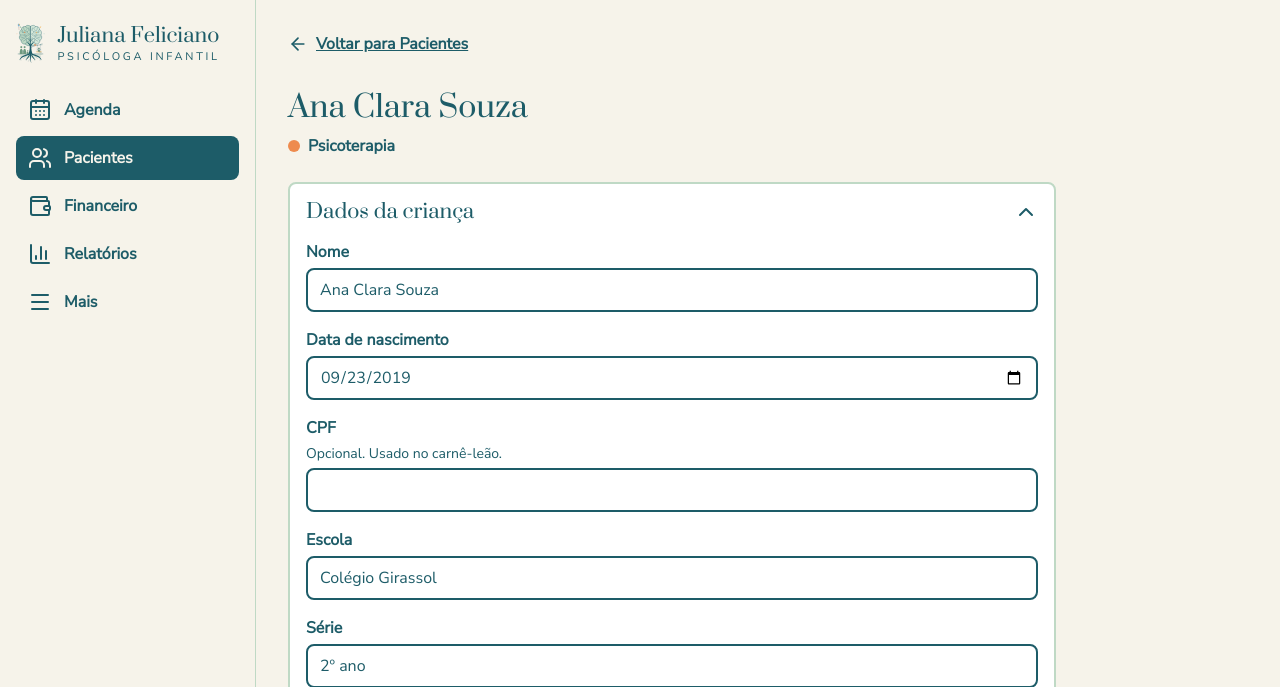
it: FichaPaciente — dados da criança › depois de salvar, os campos mostram o que ficou gravado (textos aparados)
Replace the text in the field labelled "Escola" with "   Escola Nova   " at (672, 578), box [306, 556, 1038, 600]
(page scrolled)
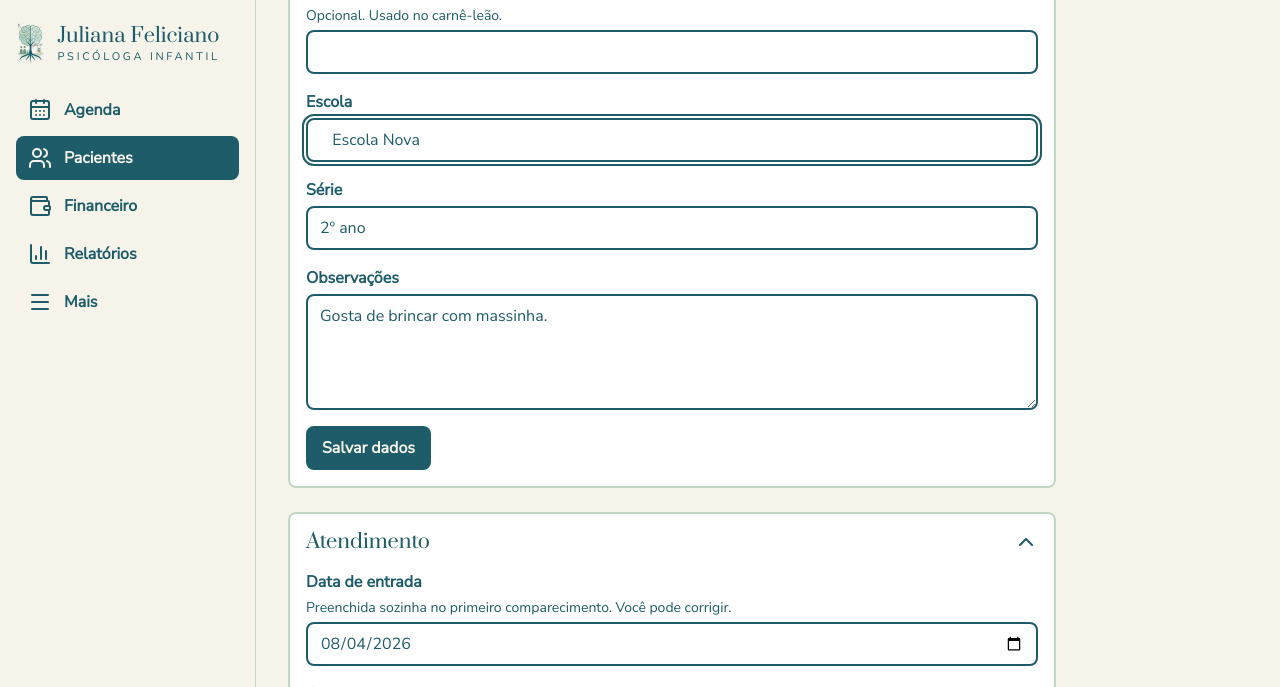
Click the button "Salvar dados".
click(368, 448)  # box [306, 426, 431, 470]
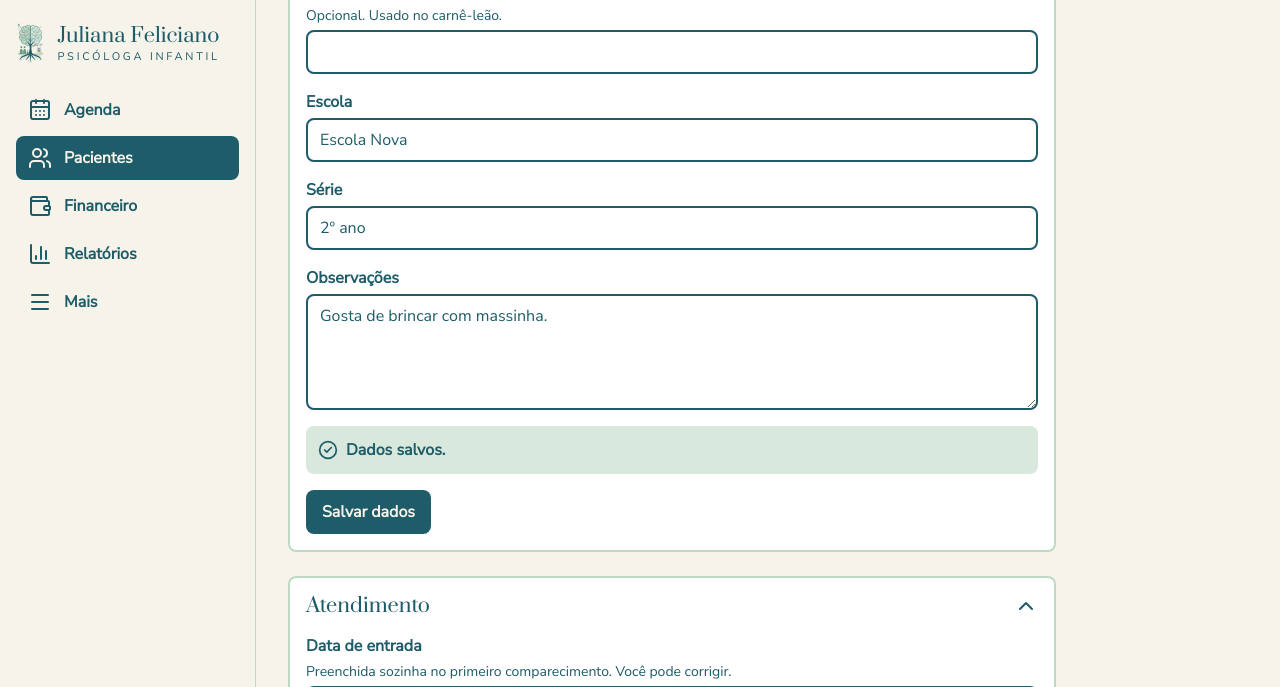
Check: the text "Dados salvos." is shown, box [306, 426, 1038, 474]
